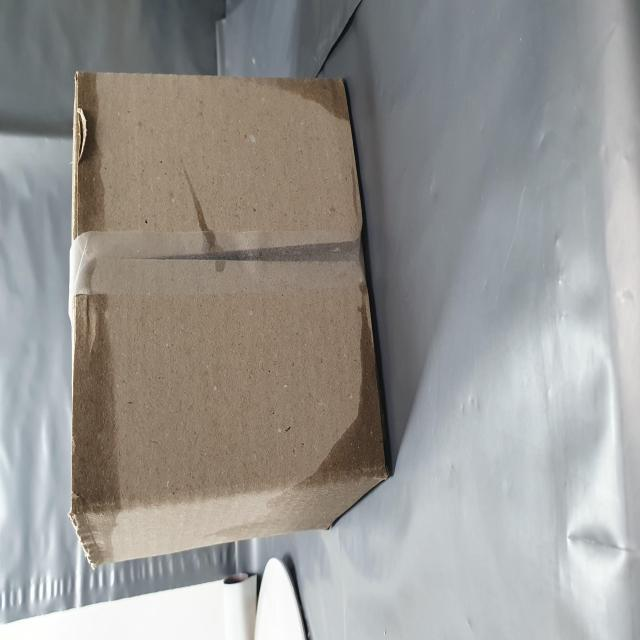wet: (39, 114, 317, 203), (56, 467, 194, 640), (291, 472, 322, 626)
